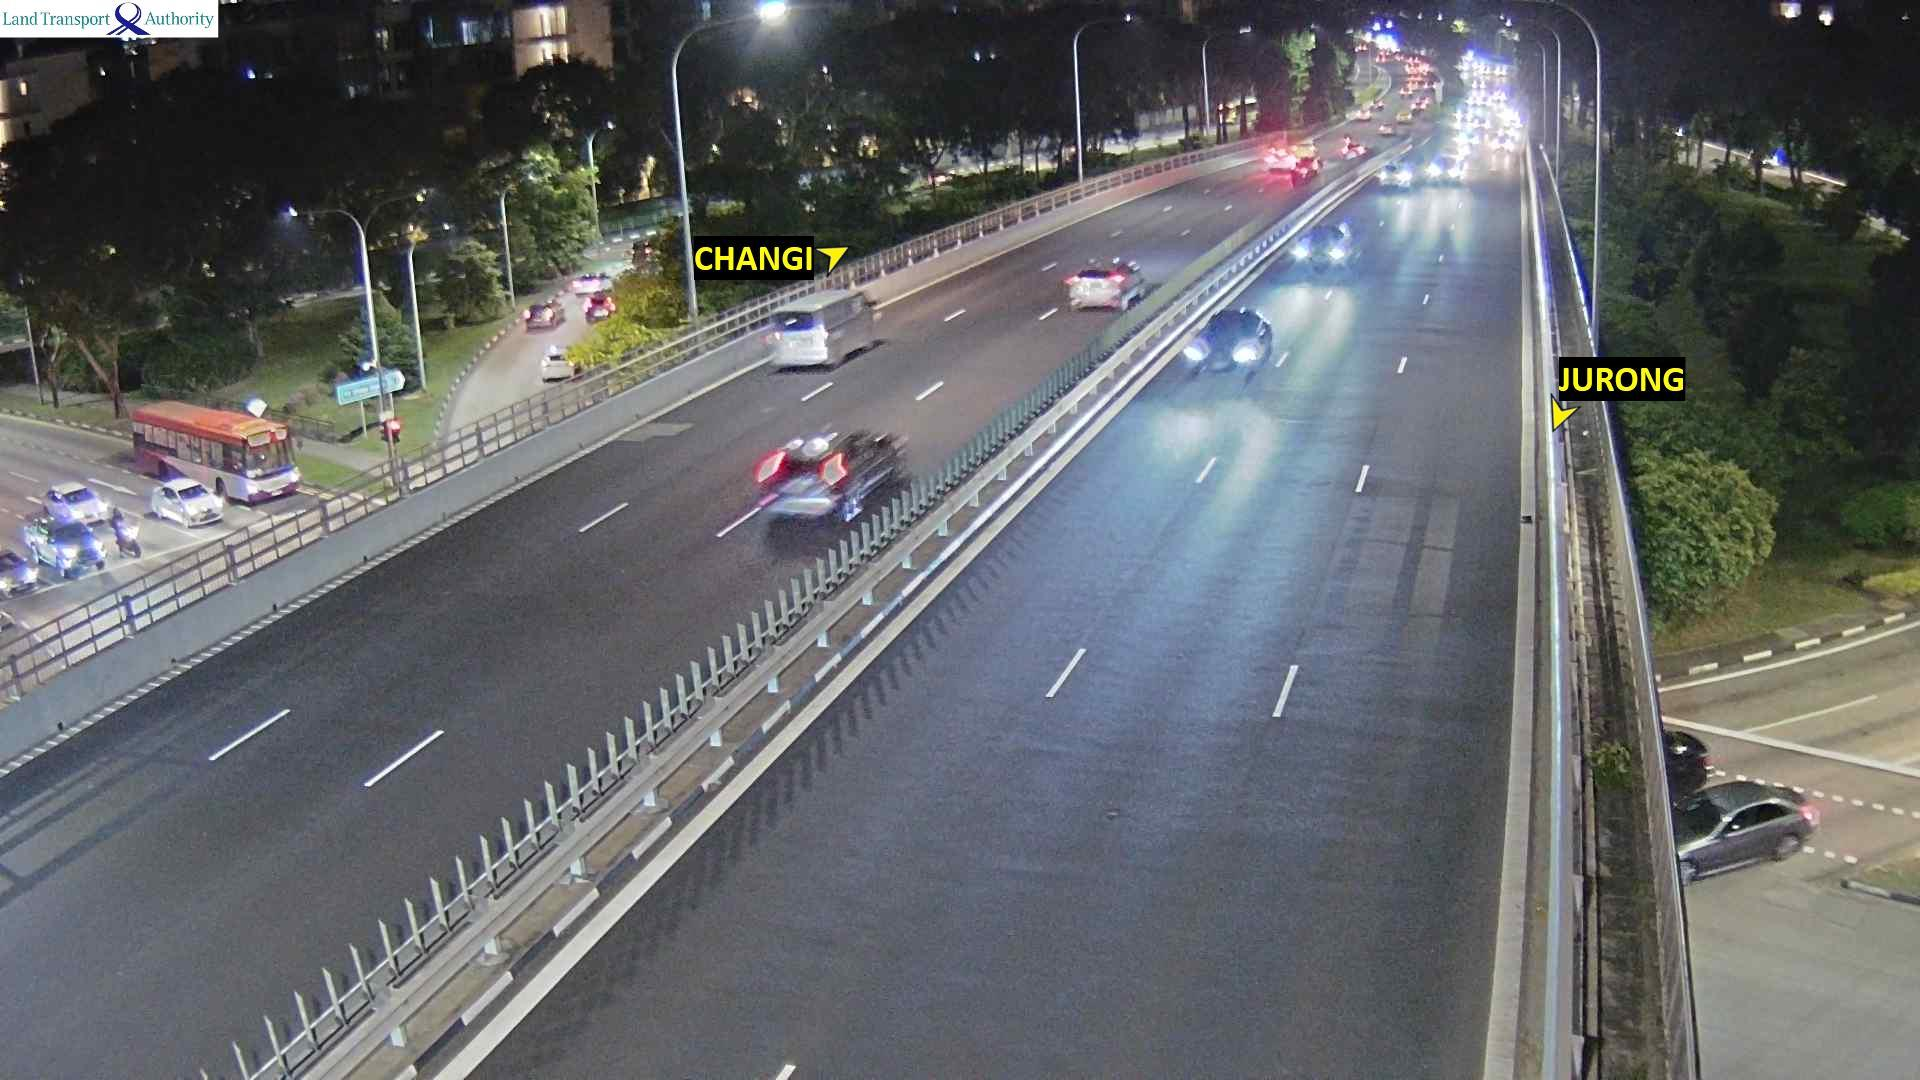incoming: (1180, 310, 1276, 385), (1291, 222, 1356, 273), (1425, 157, 1462, 185), (1378, 164, 1412, 191)
